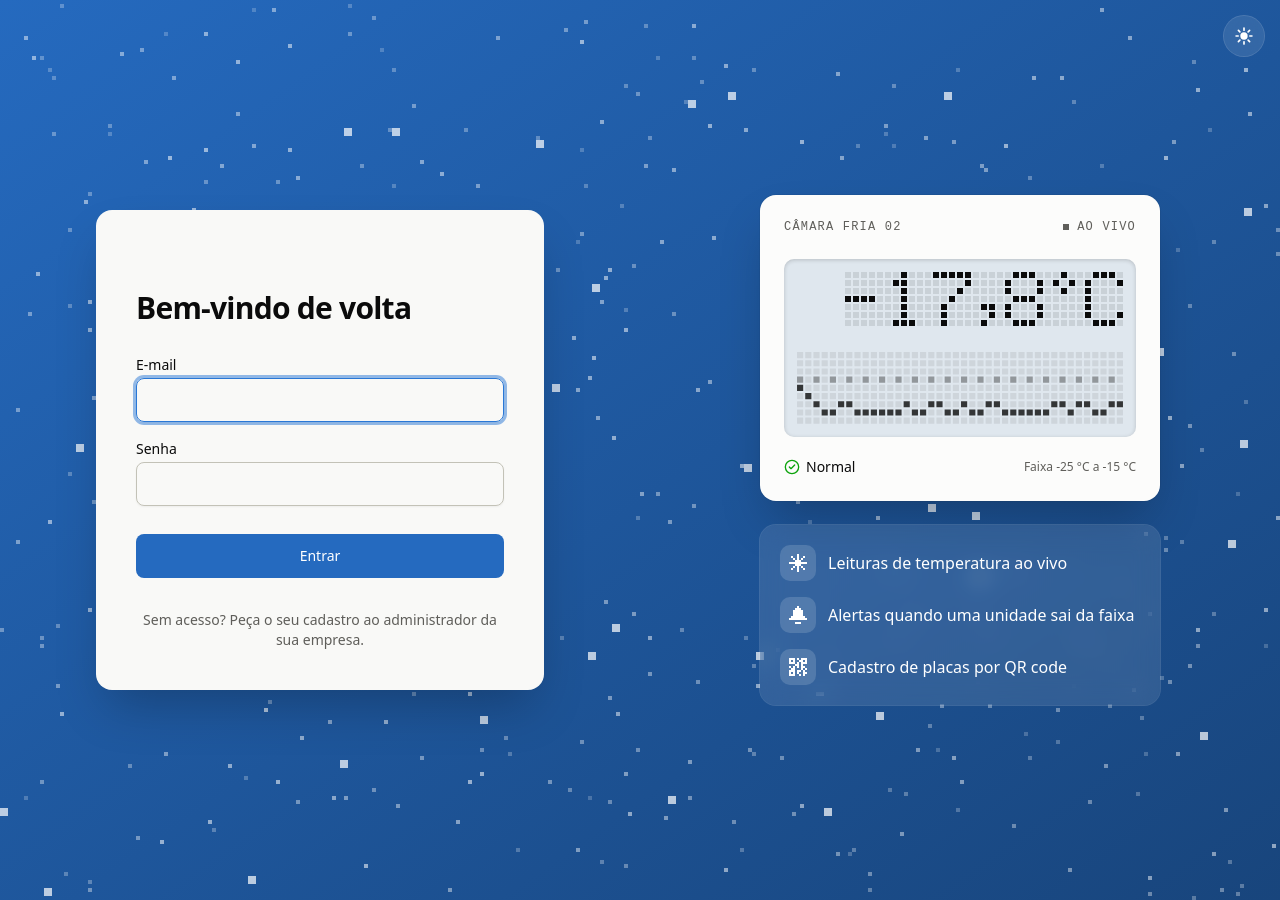
Test: LoginPage › guarda o token e entra
The width and height of the screenshot is (1280, 900).
In the field labelled "E-mail": (320, 400) [136,378,504,422], type "ana@teste.com"
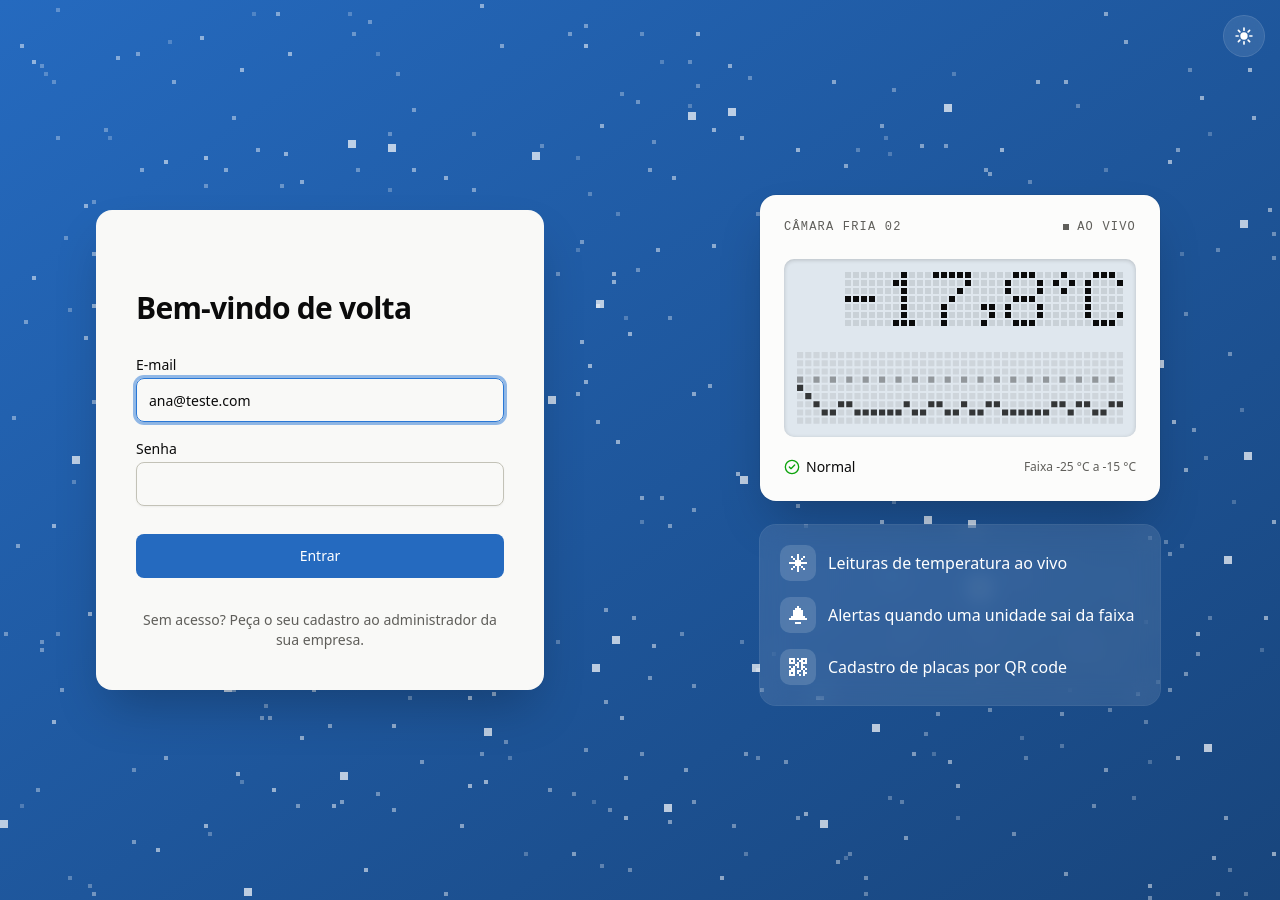
In the password field labelled "Senha": (320, 484) [136,462,504,506], type "senha-certa"
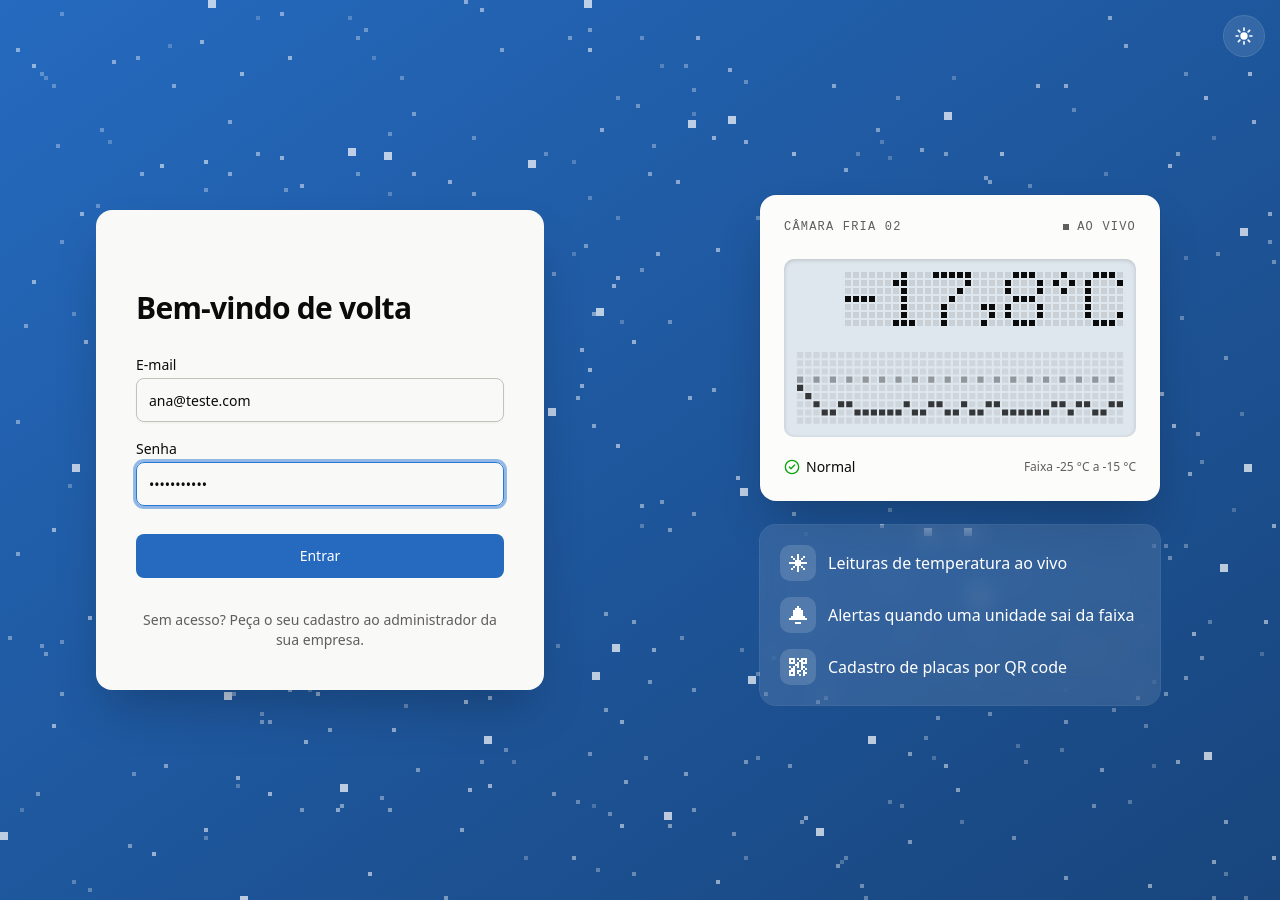
Click the button "Entrar": (320, 556) [136,534,504,578]
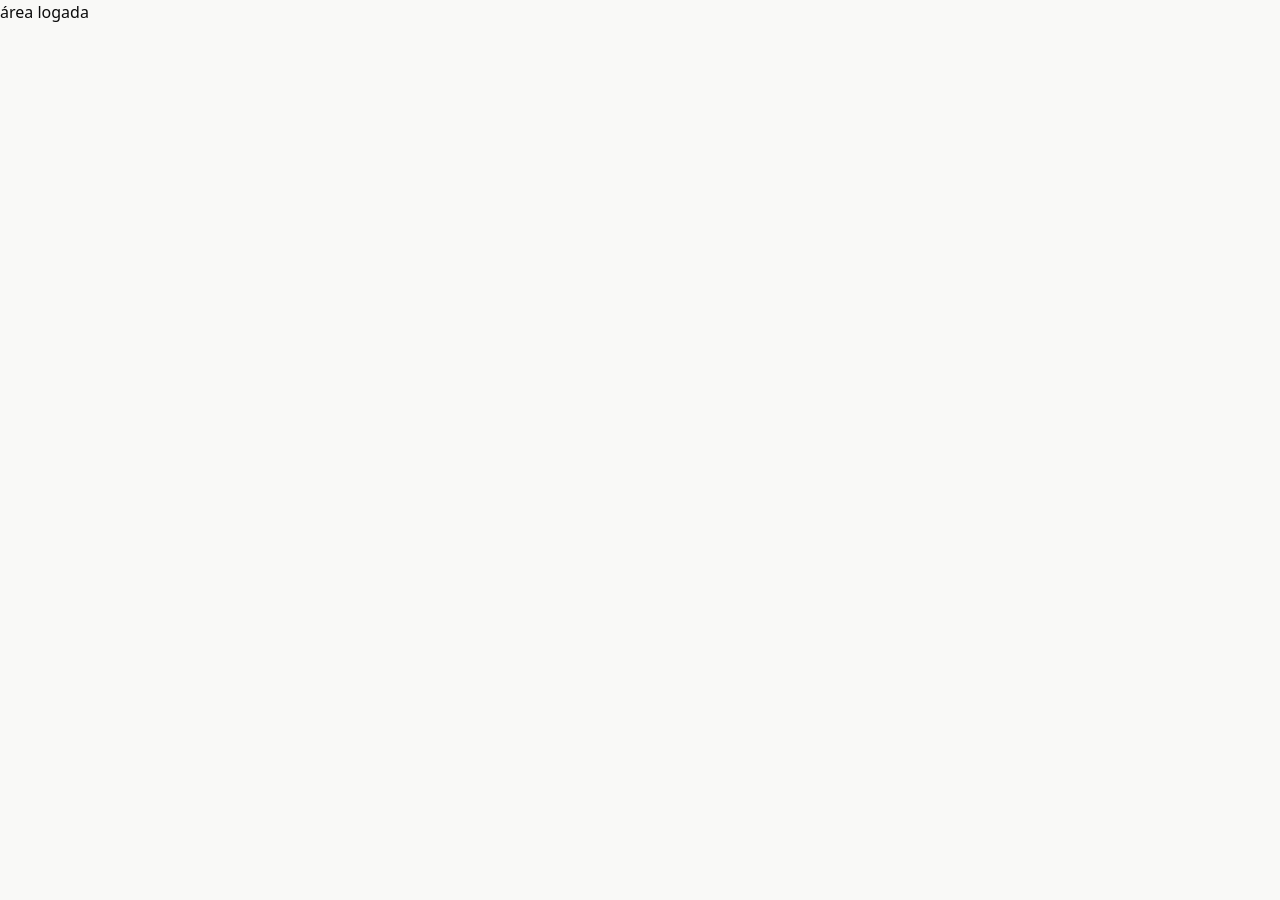
Result: the text "área logada" is shown at [0,1,89,23]
